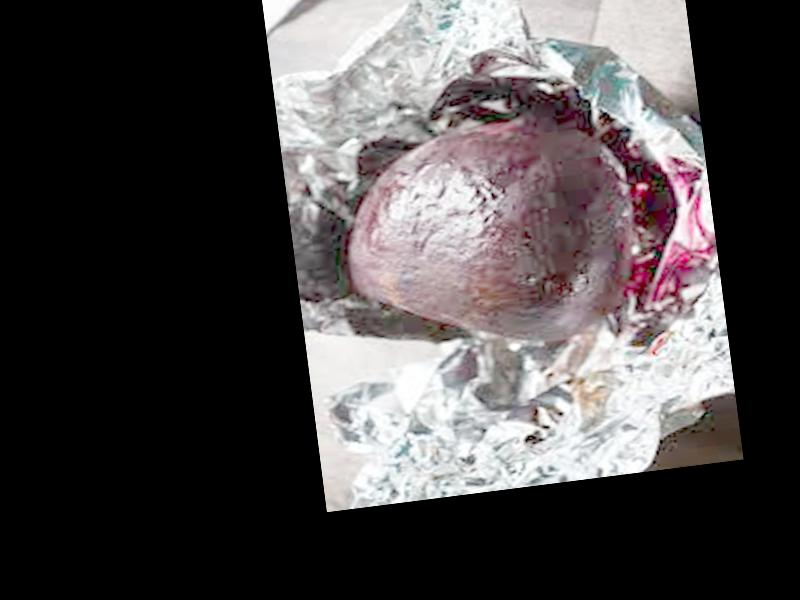Beet: (332, 104, 635, 365)
